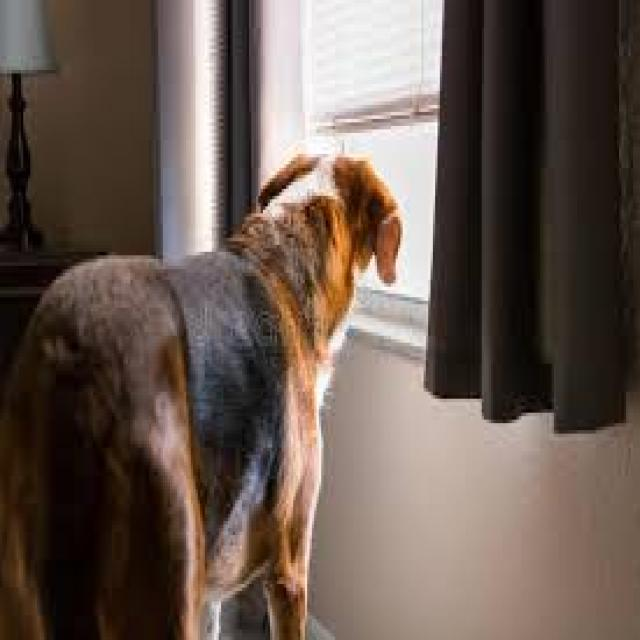Dog: (0, 143, 405, 640)
